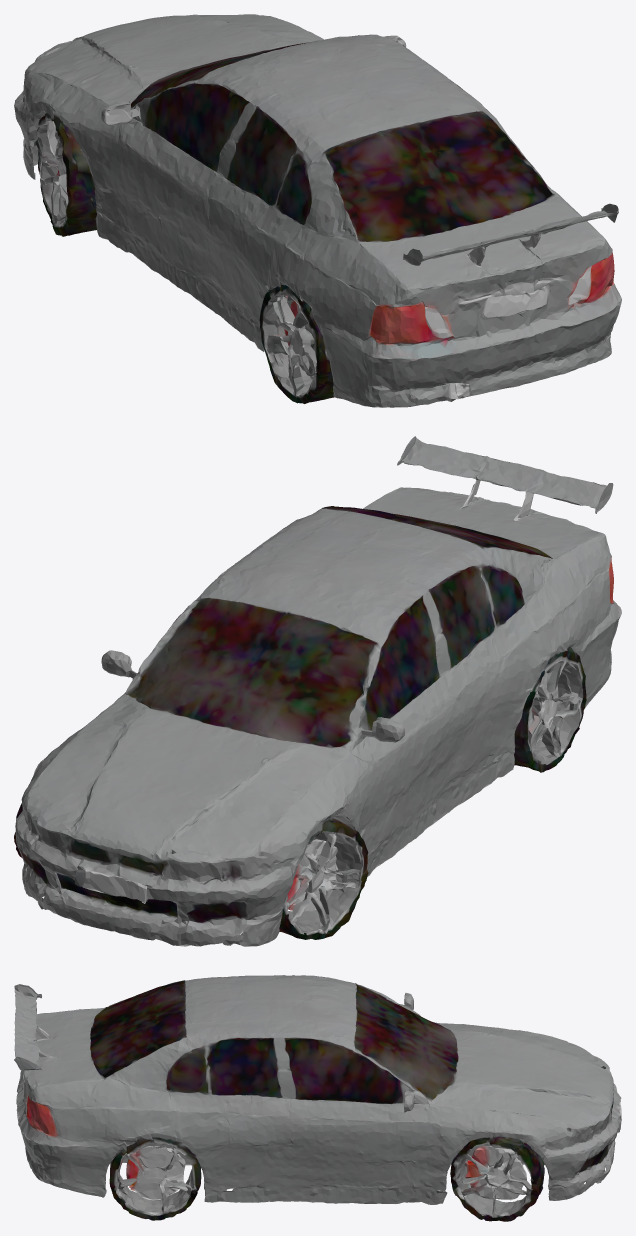
3 renders of one model, top to bottom at view 1: azimuth 30°, elevation 25°; view 2: azimuth 150°, elevation 25°; view 3: azimuth 270°, elevation 25°, orthographic. The views are drawn at different scales.
Parts seen in each view (by area): view 1: defaultobject; view 2: defaultobject; view 3: defaultobject.
Boxes of the visible parts, x1=… form: defaultobject: x1=14, y1=14, x2=621, y2=407; defaultobject: x1=14, y1=436, x2=621, y2=946; defaultobject: x1=14, y1=975, x2=621, y2=1221.
Size of the model in its own units: 0.4045 by 0.3012 by 0.9505.
